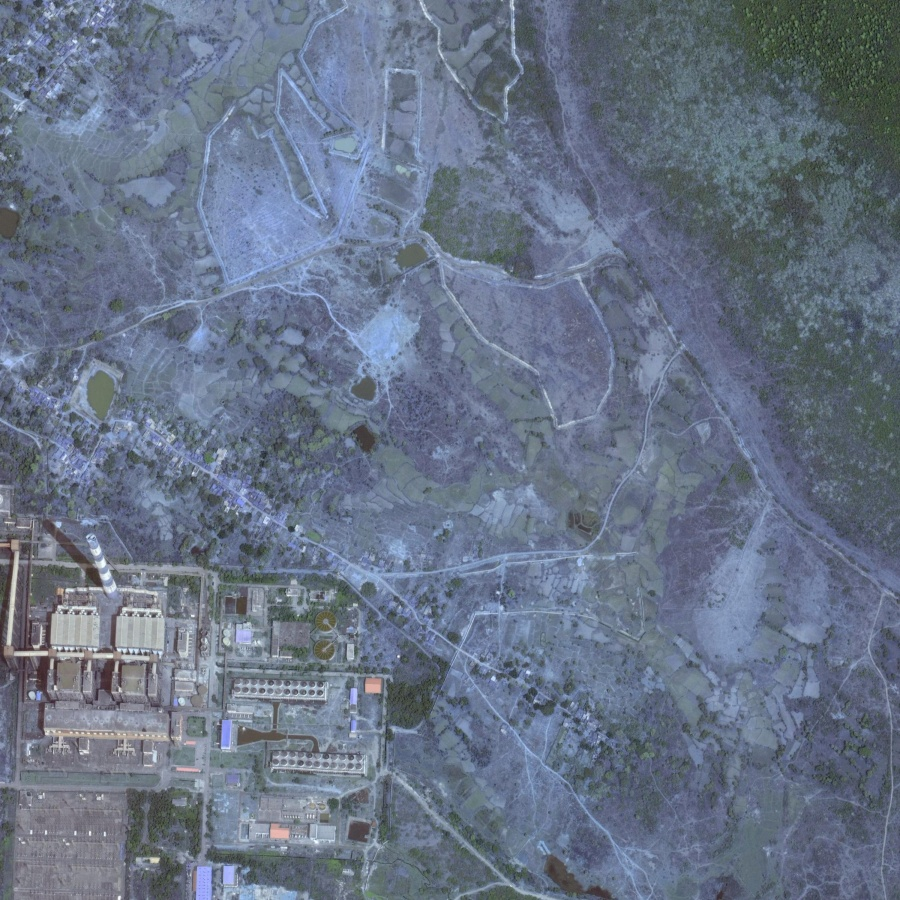PowerPlant: (17, 494, 171, 627)
